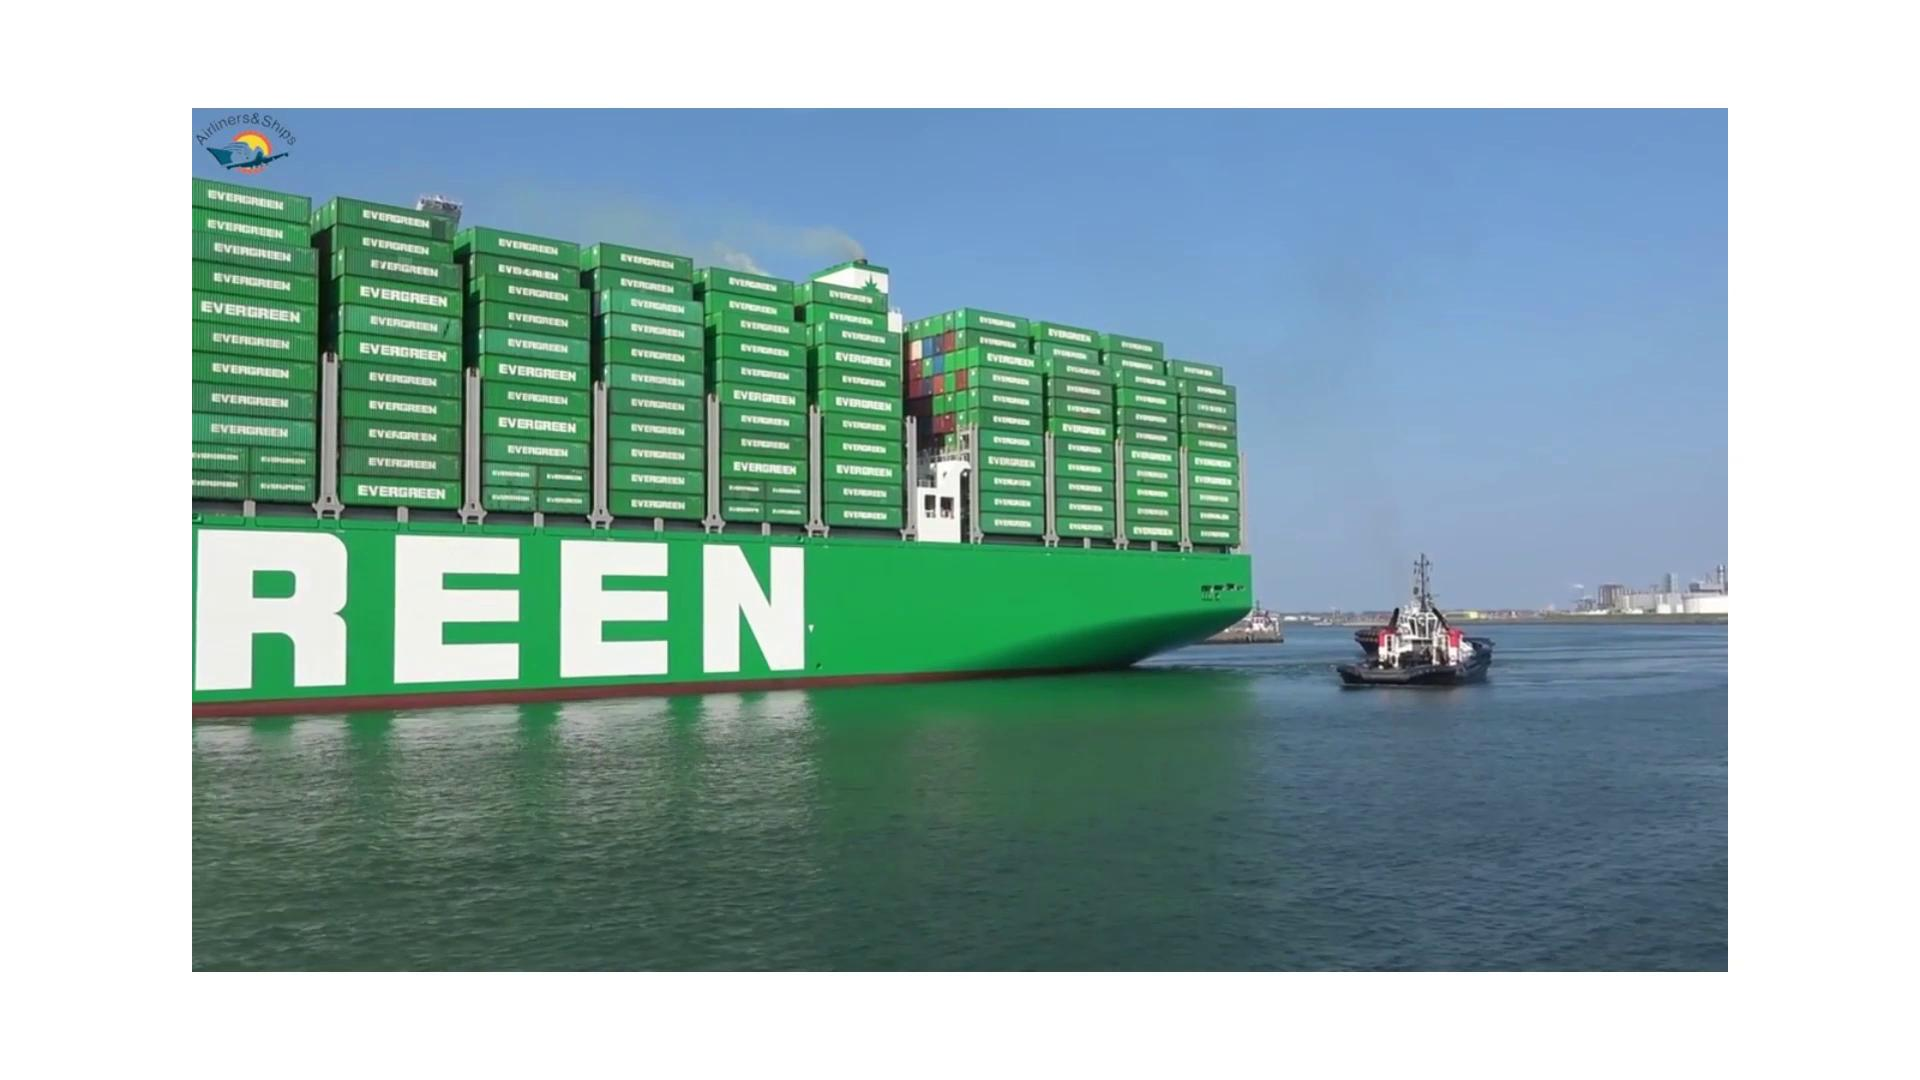OCR: (194, 514, 847, 725)
